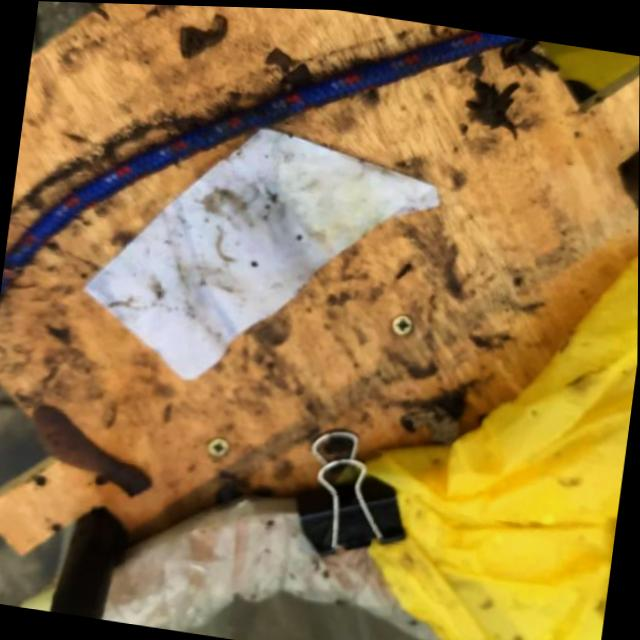Paper: (67, 96, 450, 417)
